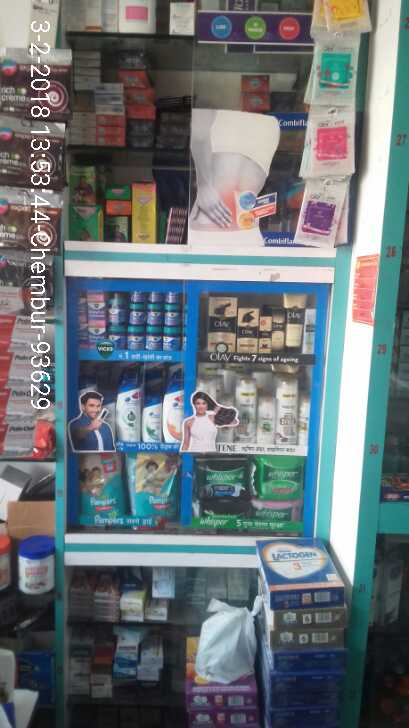vicks: (77, 291, 181, 350)
